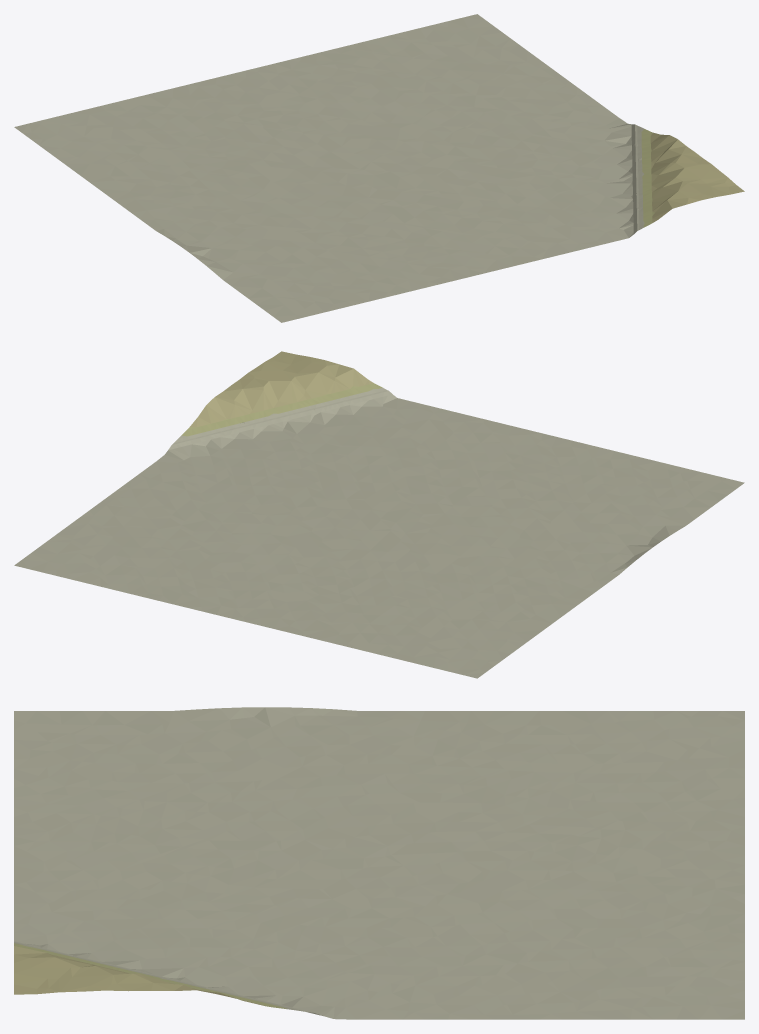
File: Ground_-2_1.glb
The picture shows the model from 3 angles, top to bottom: view 1: azimuth 30°, elevation 25°; view 2: azimuth 150°, elevation 25°; view 3: azimuth 270°, elevation 25°; orthographic projection. The views are drawn at different scales.
Visible parts, largest first — view 1: Ground_-2_1; view 2: Ground_-2_1; view 3: Ground_-2_1.
Part boxes in pixels (x1=…): Ground_-2_1: x1=14, y1=14, x2=744, y2=322; Ground_-2_1: x1=14, y1=351, x2=744, y2=678; Ground_-2_1: x1=14, y1=707, x2=744, y2=1019.
Bounding box in the file's own units: 768 × 34.22 × 768.
